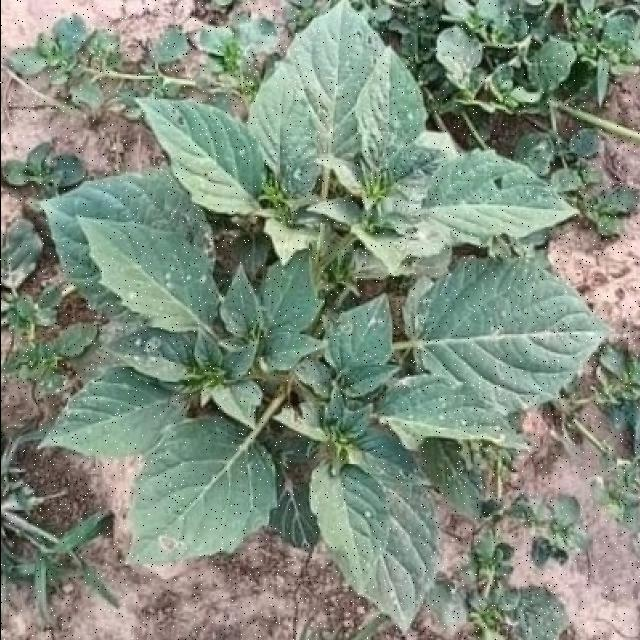weed: (38, 0, 606, 630)
